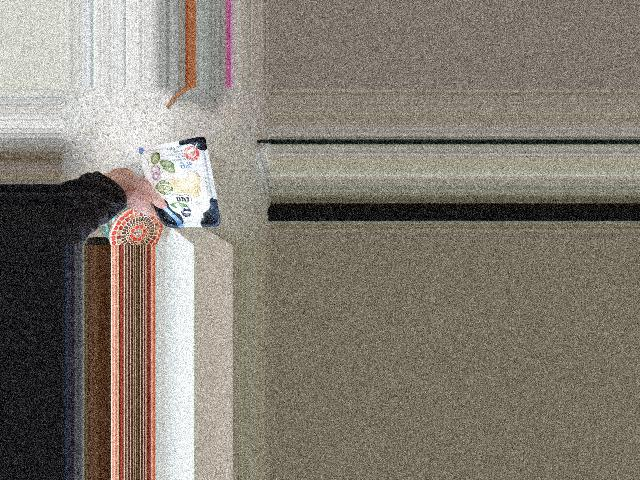cheese: (126, 145, 196, 213)
